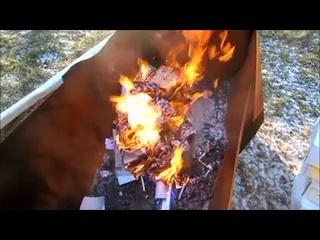Fire: (114, 24, 204, 172)
